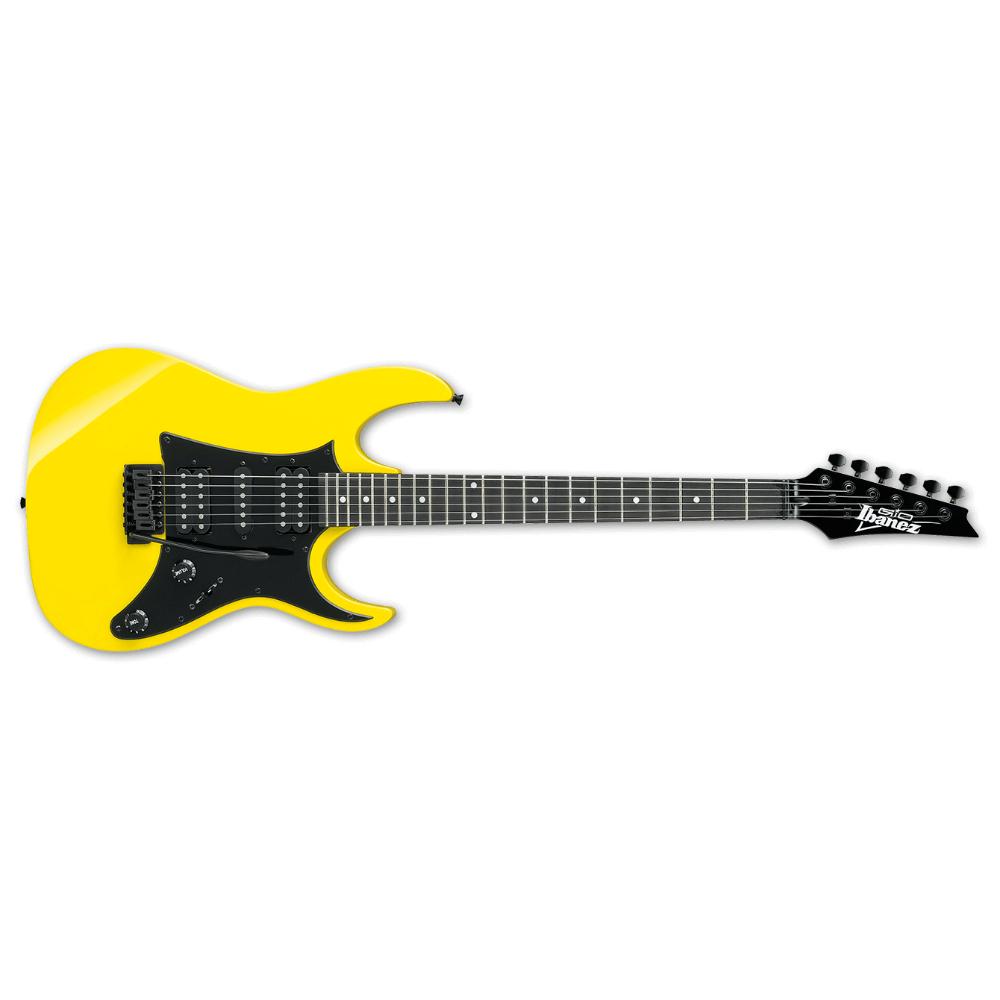ElectricGuitar: (18, 324, 979, 661)
